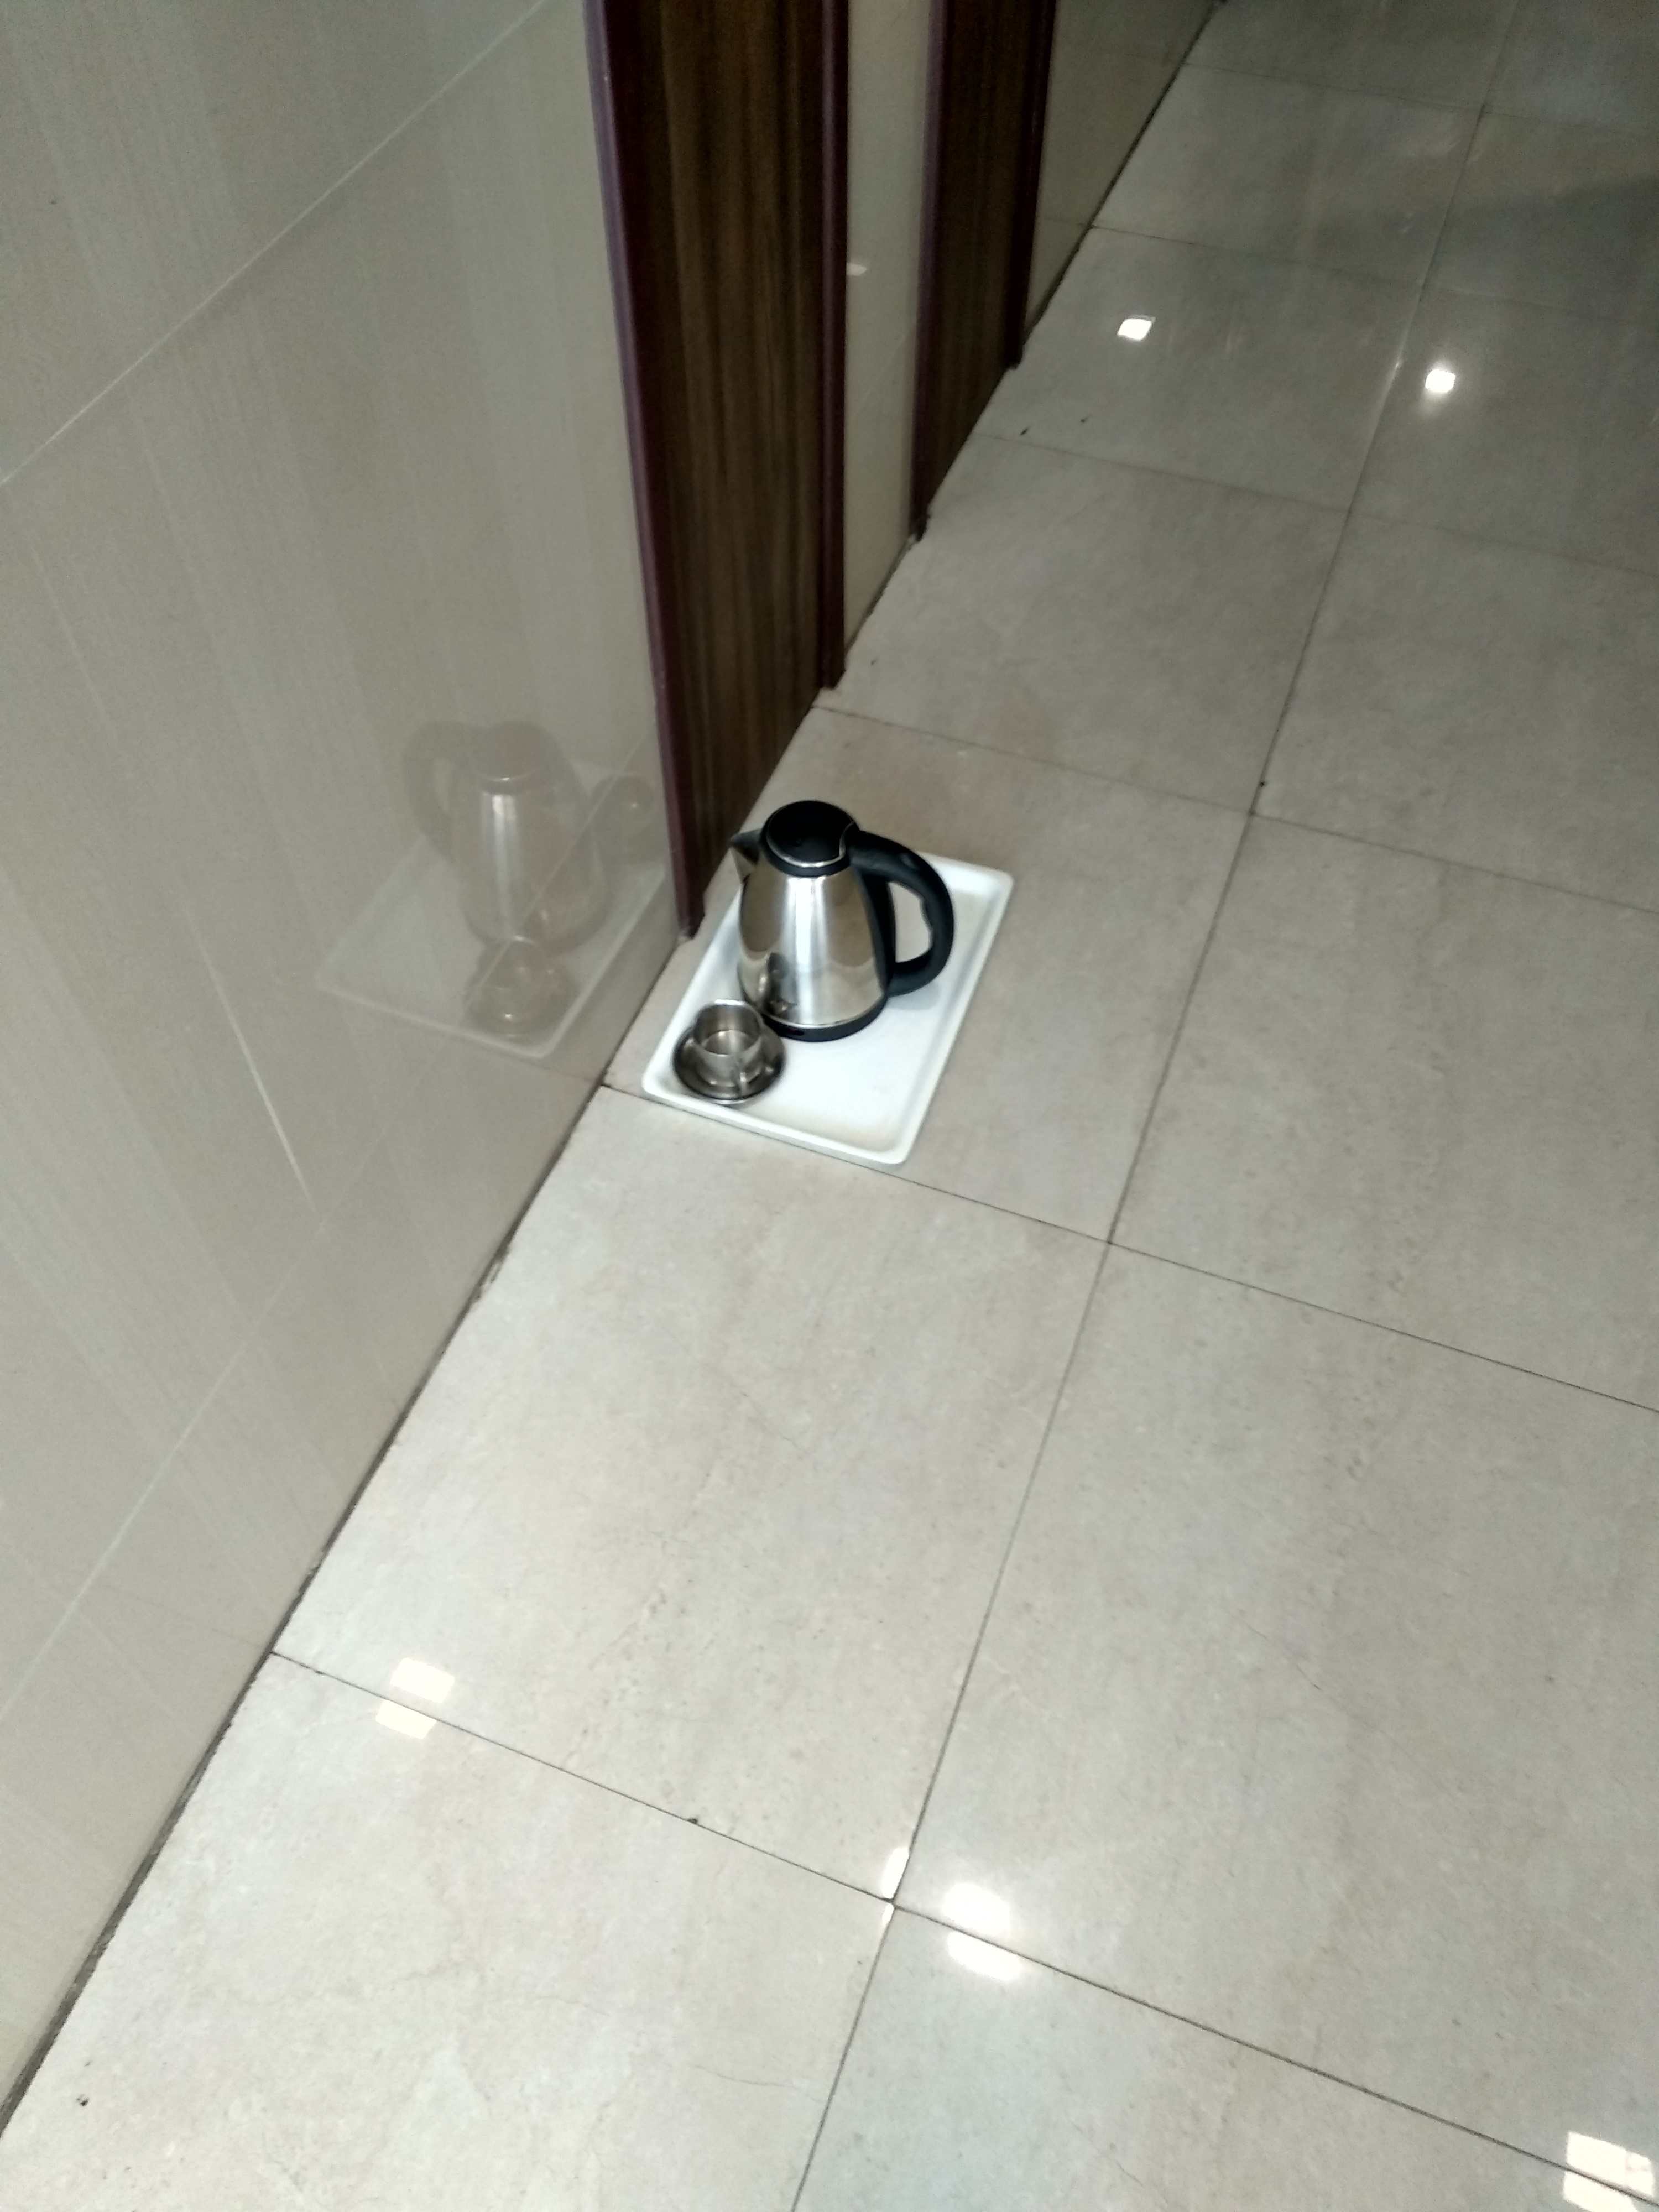CUP: (695, 1003, 767, 1094)
JUG: (725, 796, 931, 979)
